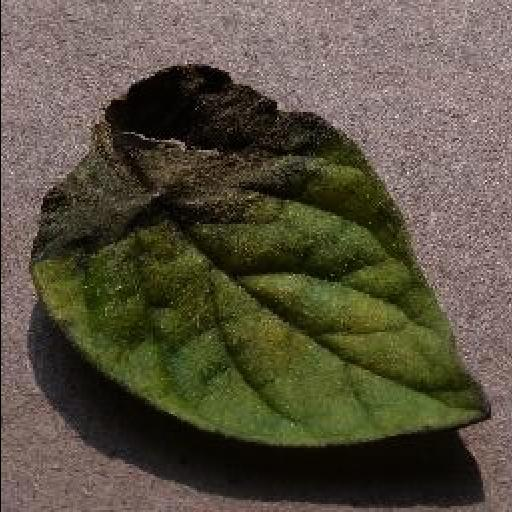disease_tomato: (28, 65, 494, 451)
